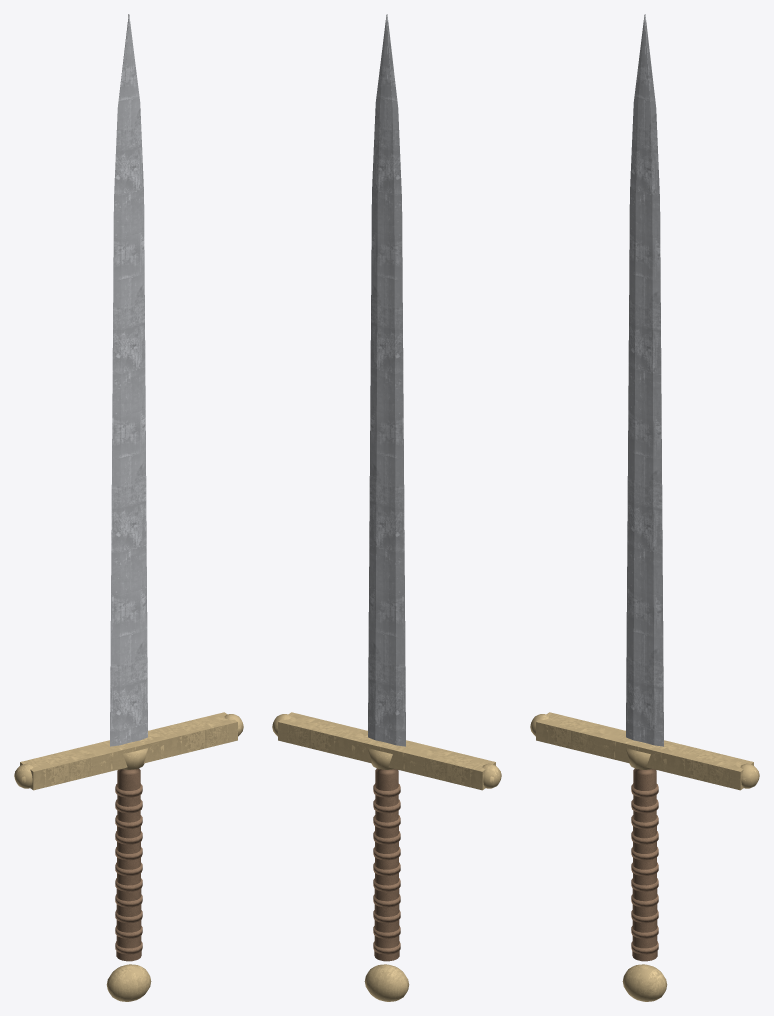
The model's file is sword_2handed.glb.
3 views of the same model, side by side, from view 1: azimuth 30°, elevation 25°; view 2: azimuth 150°, elevation 25°; view 3: azimuth 330°, elevation 25° (orthographic).
Parts seen in each view (by area): view 1: sword_2handed; view 2: sword_2handed; view 3: sword_2handed.
Part boxes in pixels (left/top/right/bottom): sword_2handed: left=14, top=14, right=243, bottom=1001; sword_2handed: left=272, top=14, right=501, bottom=1001; sword_2handed: left=530, top=14, right=759, bottom=1001.
Size of the model in its own units: 0.332 by 1.38 by 0.052.
3 materials, 3 textured.
